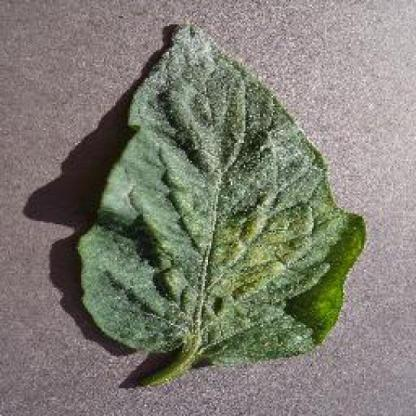Tomato_Spider_Mites: (77, 22, 366, 356), (313, 188, 313, 188)
